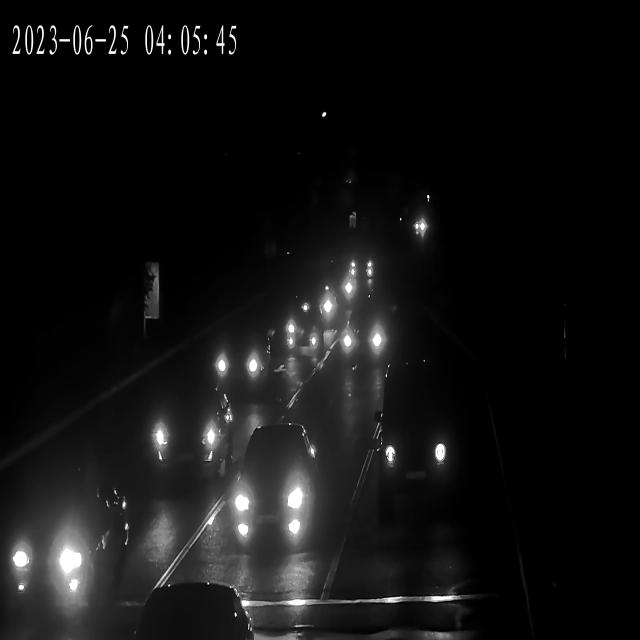Car: (2, 477, 128, 604), (218, 428, 318, 552), (134, 382, 235, 484), (127, 584, 252, 640), (375, 408, 456, 492), (248, 307, 320, 360), (205, 328, 270, 385), (340, 311, 396, 366), (278, 283, 342, 331), (304, 268, 357, 312), (347, 248, 379, 281), (408, 220, 429, 237)
